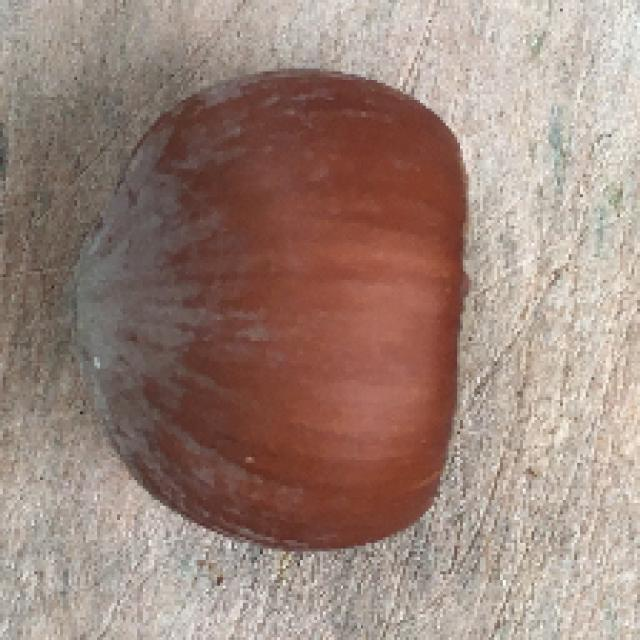qualityHazelnut: (72, 64, 476, 555)
